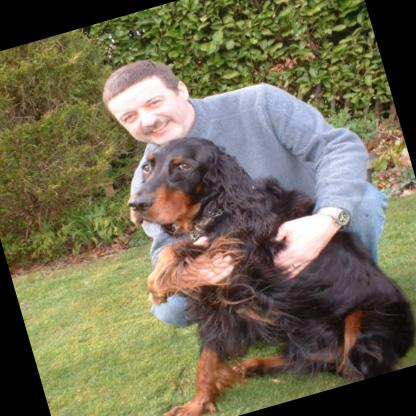Gordon_setter: (90, 90, 416, 416)
